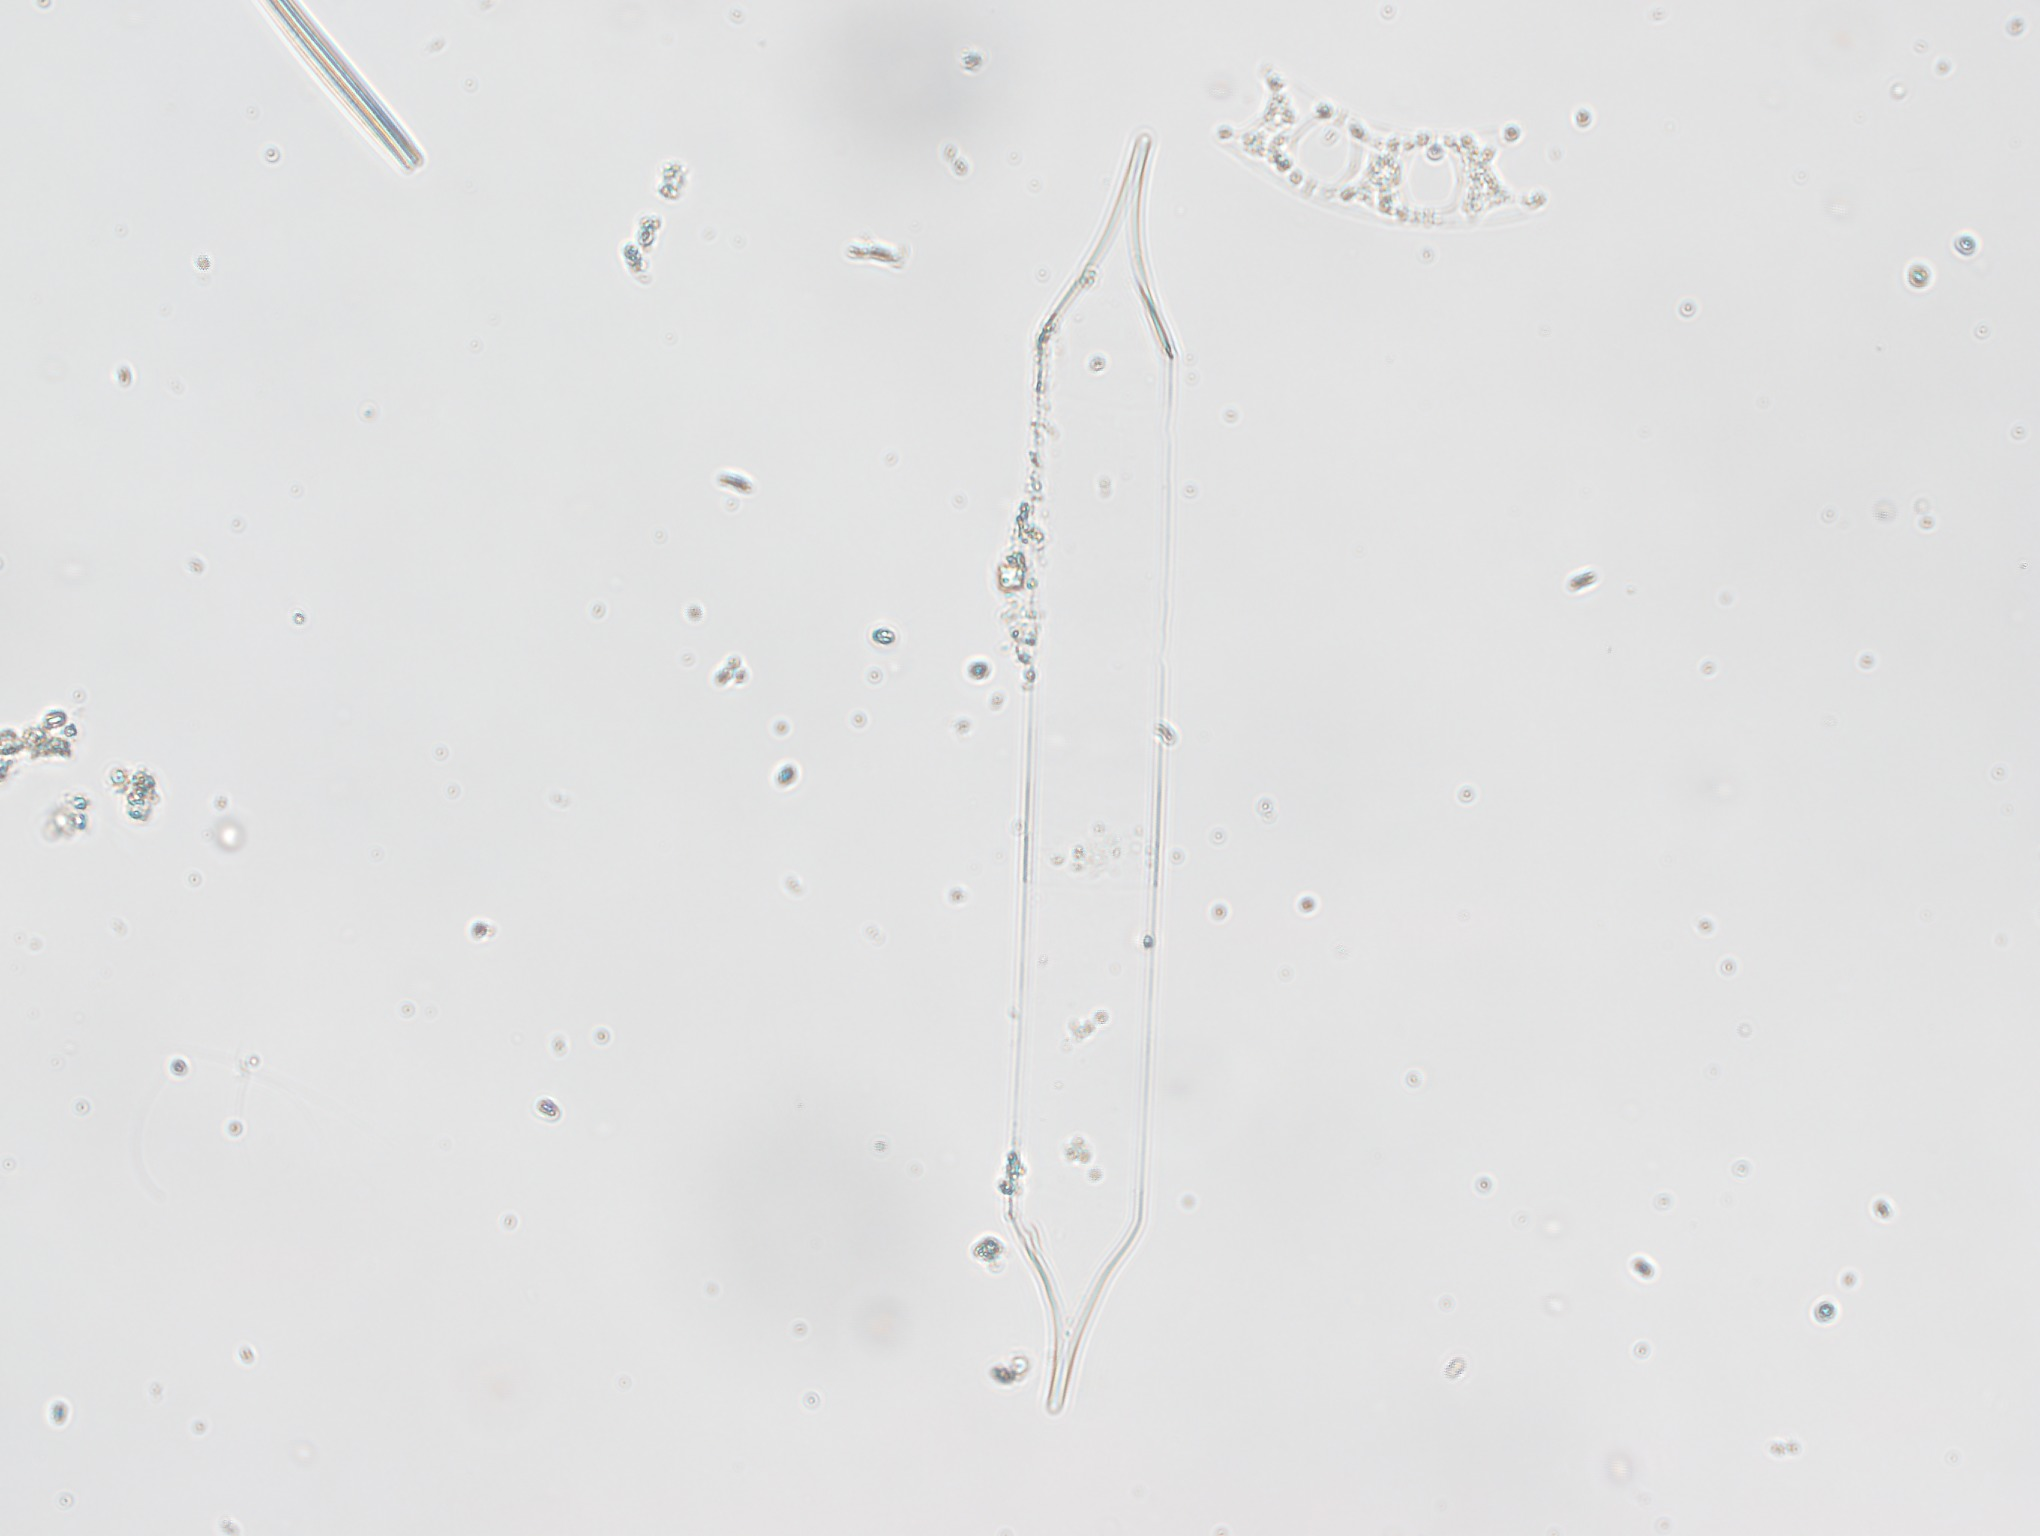eucampia: (1206, 60, 1563, 236)
rhizosolenia: (995, 123, 1195, 1446)
